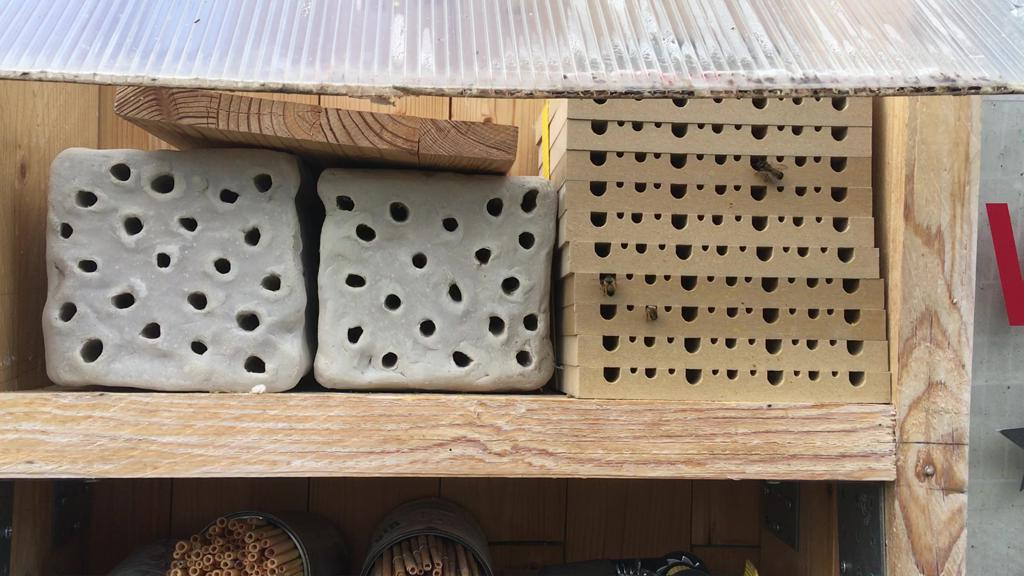bee: (595, 268, 628, 302), (644, 301, 663, 325)
